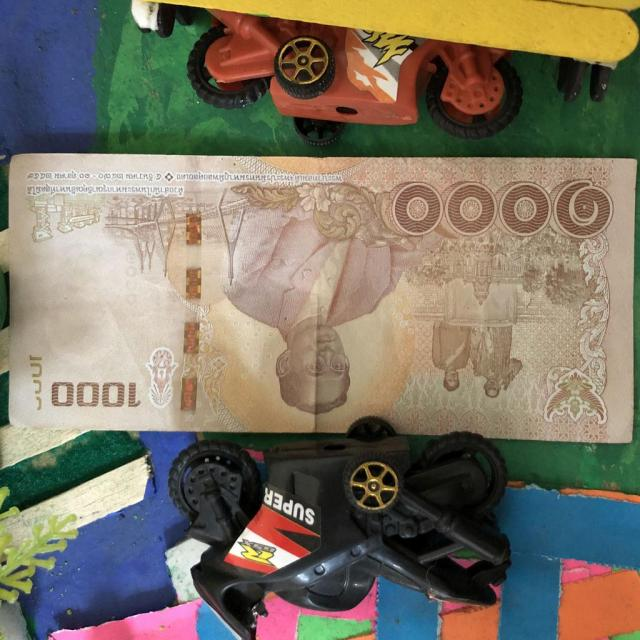THAI1000: (9, 154, 636, 443)
